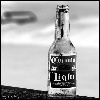beer: (49, 2, 86, 100)
